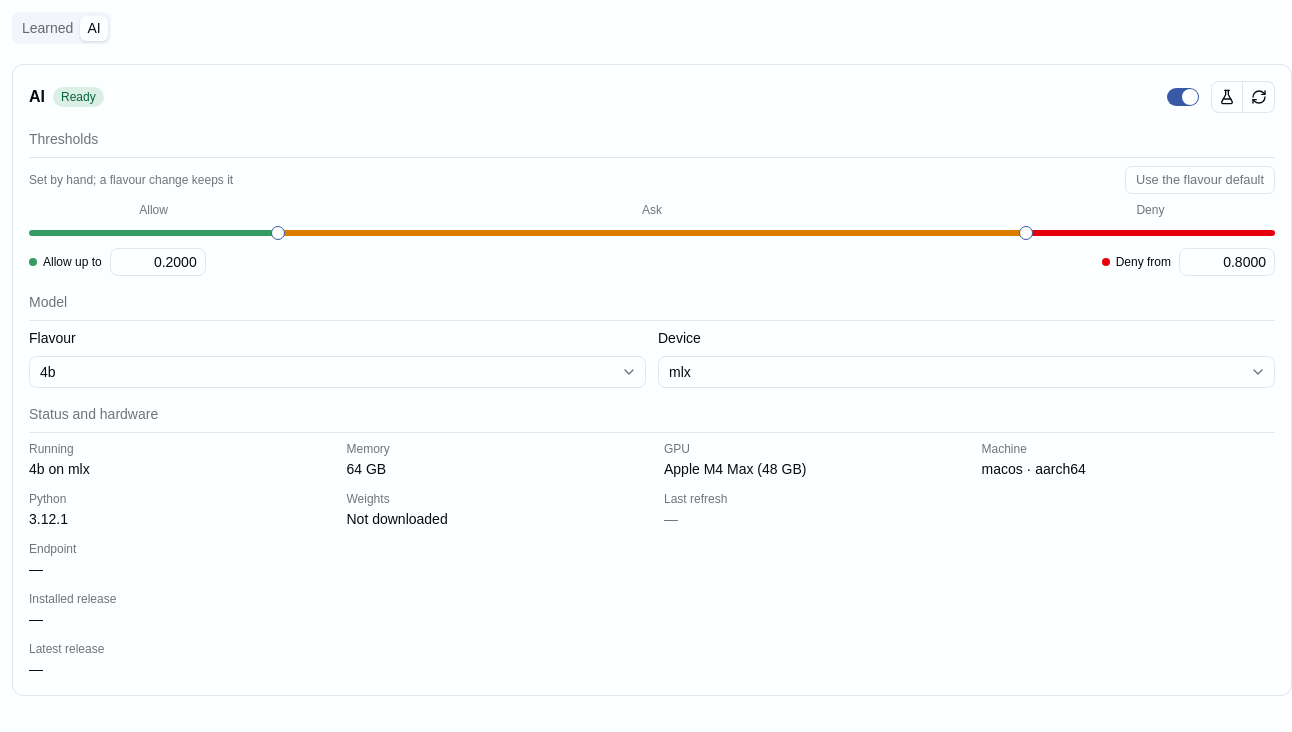
toasts the daemon's own message on a refusal
Click the button named "Refresh".
click(1259, 97)  # box left=1243, top=81, right=1275, bottom=113
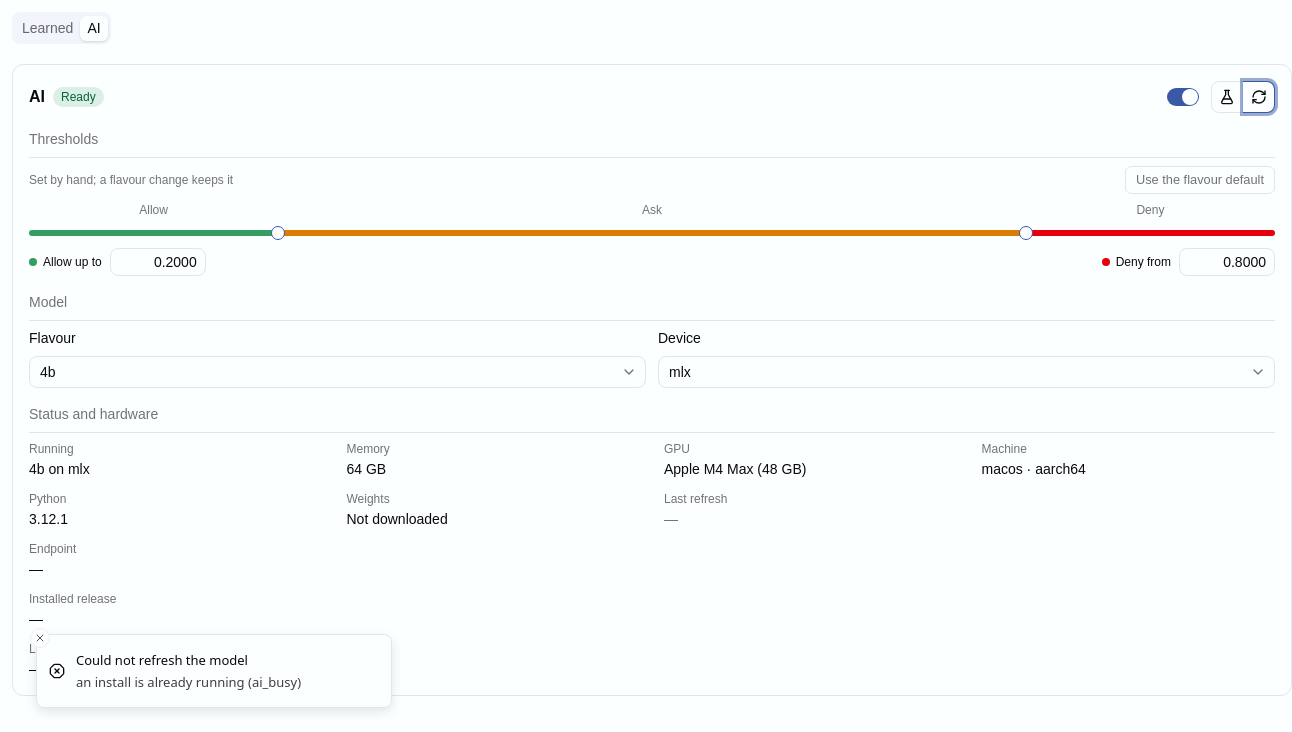
Check: the text "an install is already running (ai_busy)" is shown, box left=76, top=673, right=301, bottom=691
